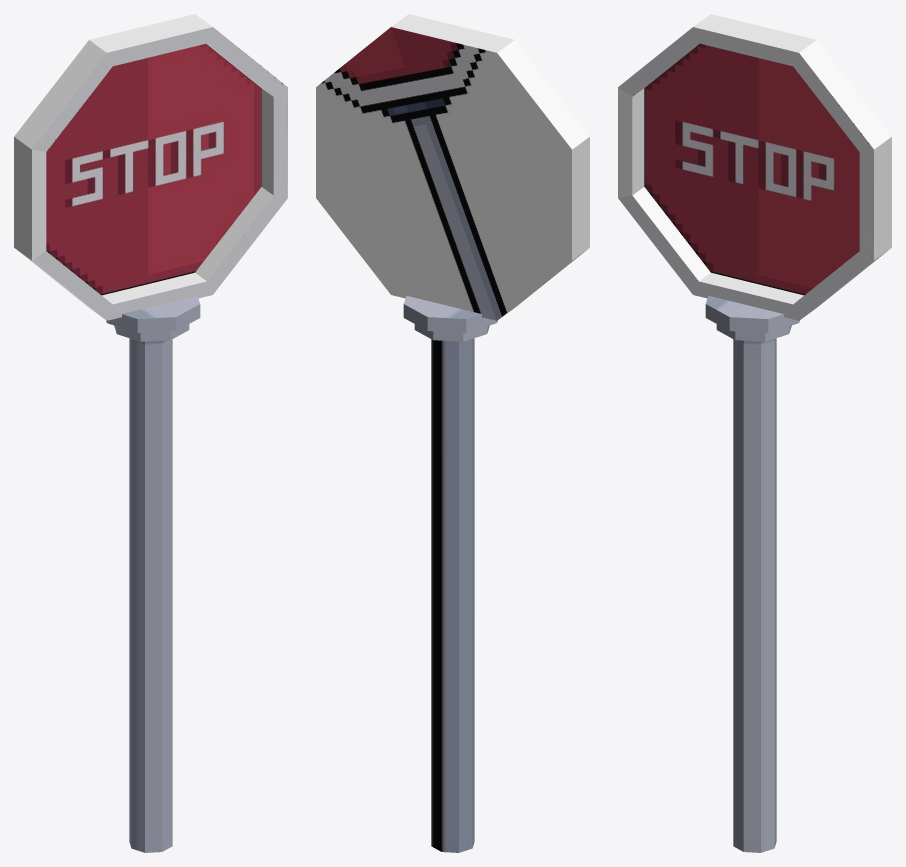
File: StopSignTest.fbx
3 renders of one model, left to right at view 1: azimuth 30°, elevation 25°; view 2: azimuth 150°, elevation 25°; view 3: azimuth 330°, elevation 25°, orthographic.
Parts seen in each view (by area): view 1: Cylinder.015, Cylinder.014; view 2: Cylinder.015, Cylinder.014; view 3: Cylinder.015, Cylinder.014.
Boxes of the visible parts, x1,y1,x2,y2 form: Cylinder.015: (14, 14, 287, 320); Cylinder.014: (106, 295, 200, 852); Cylinder.015: (316, 14, 589, 320); Cylinder.014: (403, 295, 497, 852); Cylinder.015: (618, 14, 891, 320); Cylinder.014: (705, 295, 799, 852).
Bounding box in the file's own units: 77.15 × 233 × 26.6.
Materials: 1 (1 with a texture image).
